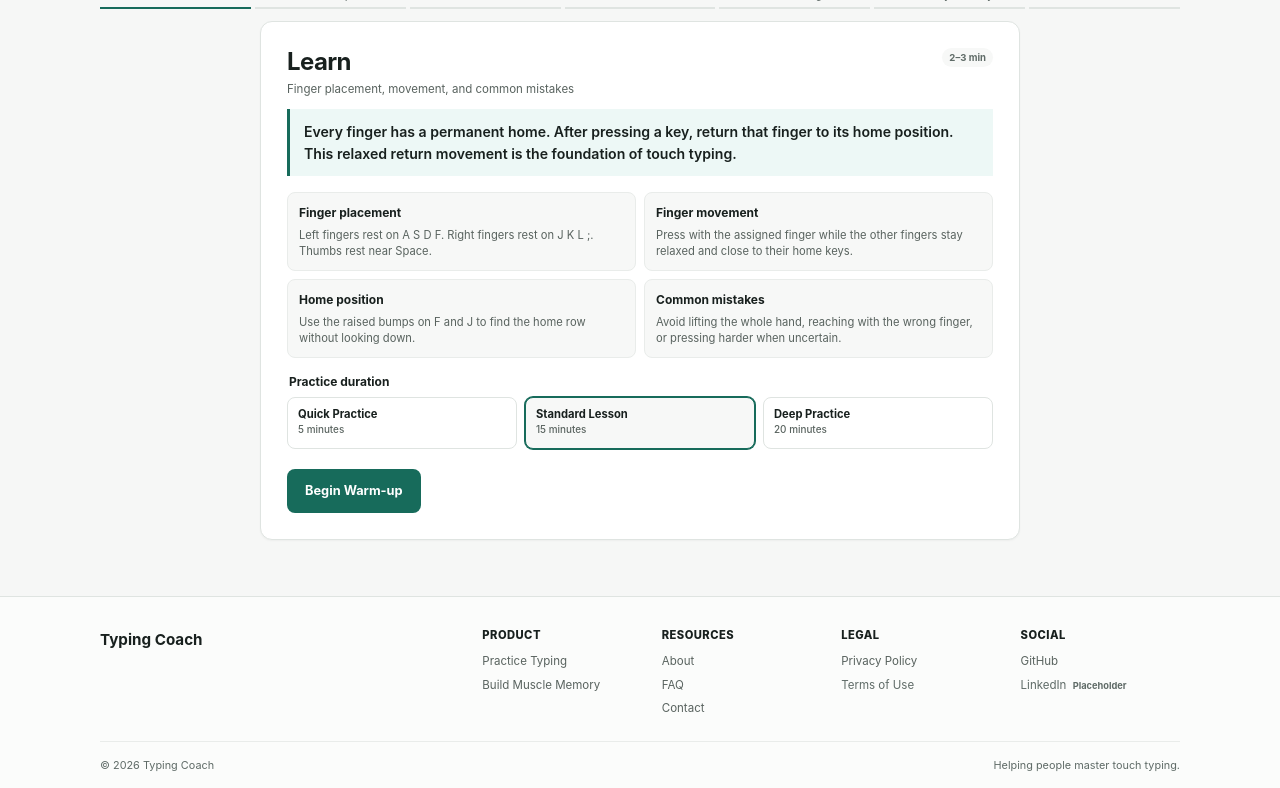
it: Build Muscle Memory module › shows a complete lesson review after the learner ends the session
(page scrolled)
Click the button "Begin Warm-up" at (354, 492), box [287,470,421,514]
(page scrolled)
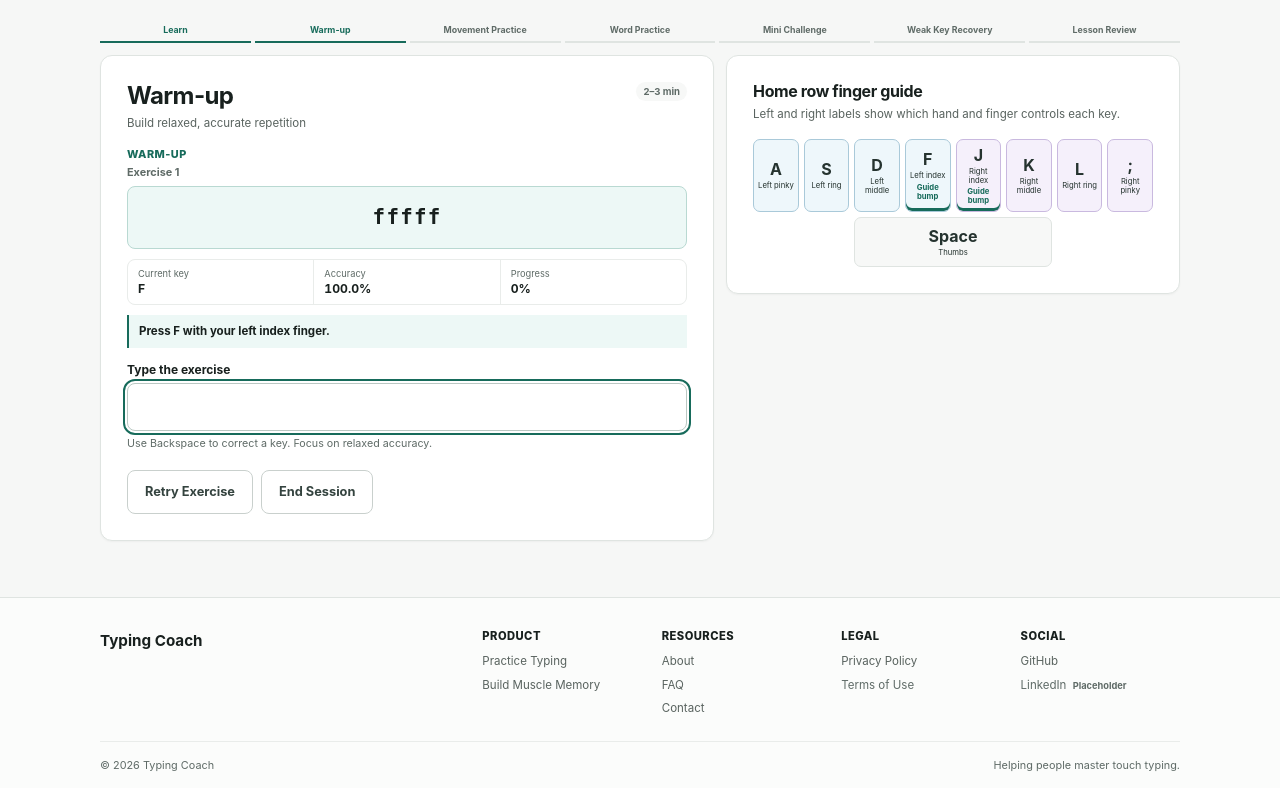
Check: the field labelled "Type the exercise" is shown, box [127,382,687,430]
Click the button "End Session" at (317, 492), box [261,470,374,514]
(page scrolled)
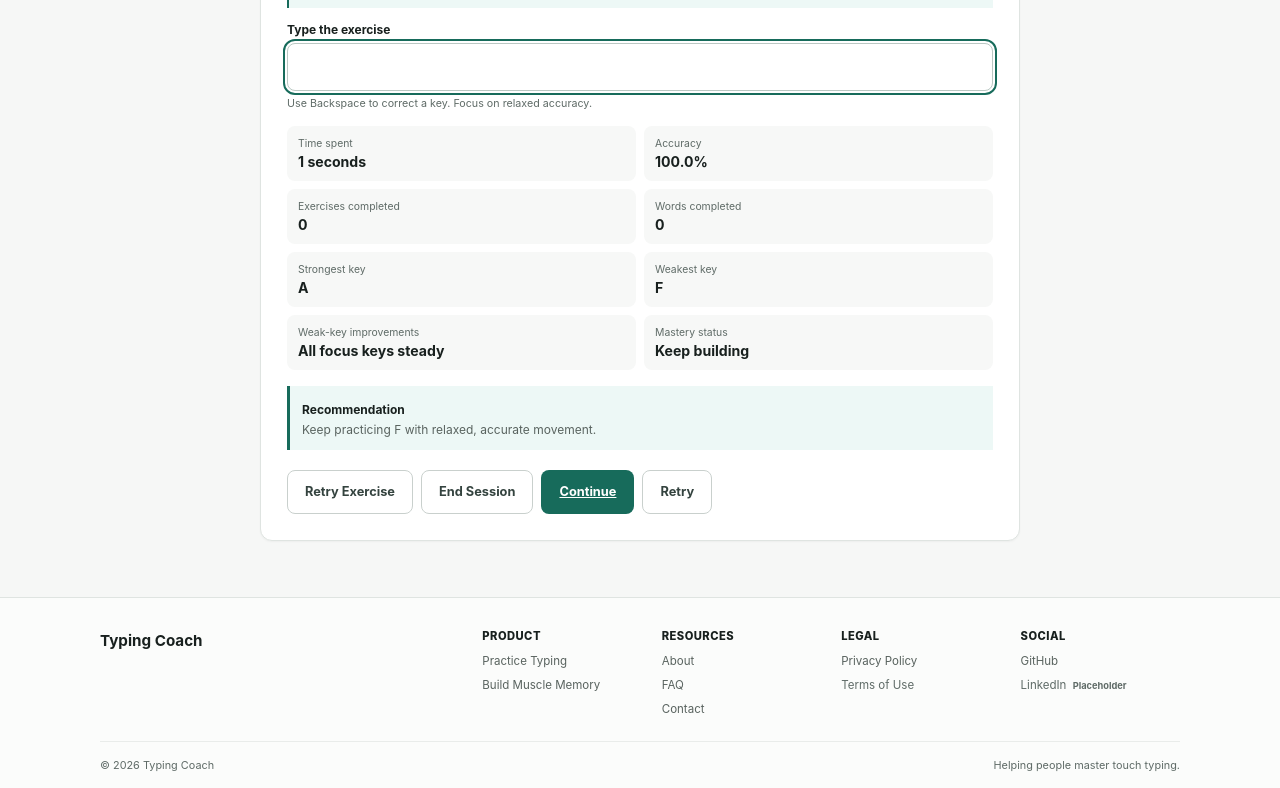
Check: the text "Time spent" is shown, box [298,136,353,150]
Check: the text "Strongest key" is shown, box [298,262,366,276]
Check: the text "Weakest key" is shown, box [655,262,717,276]
